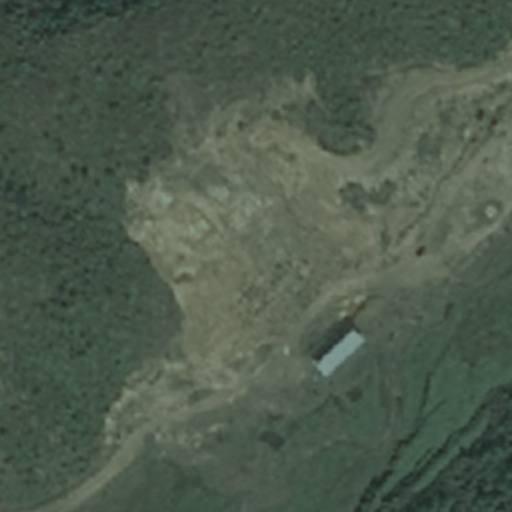landslide: (126, 111, 350, 326)
